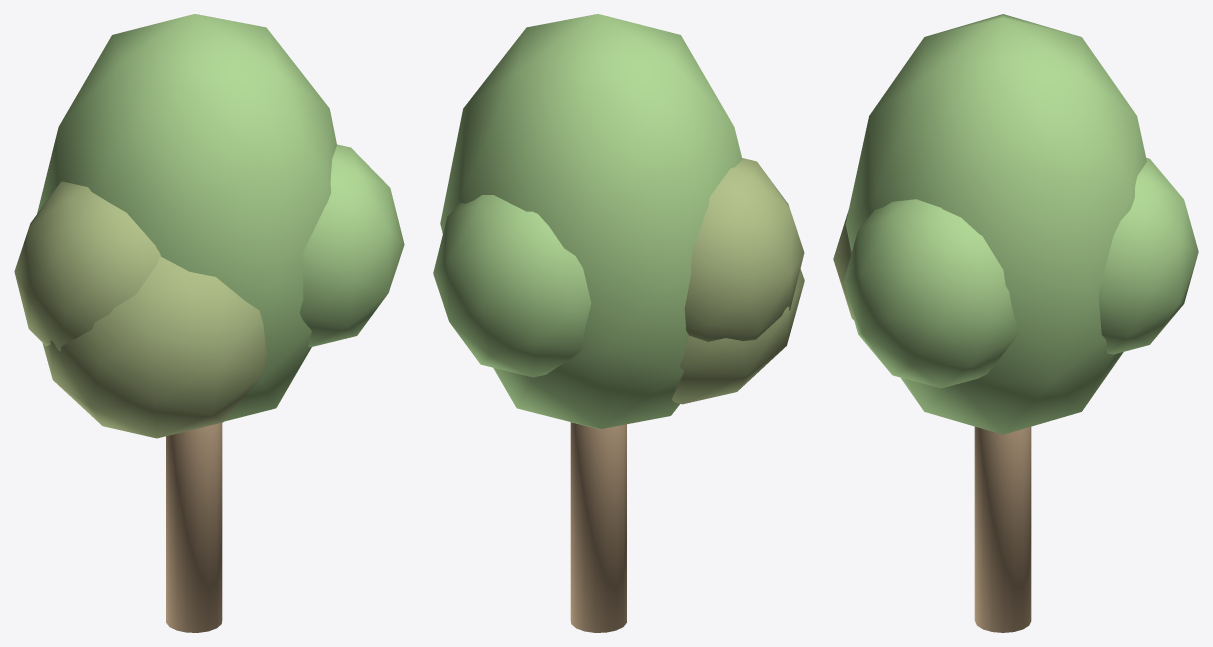
File: tree_standard.glb
3 views of the same model, side by side, from view 1: azimuth 30°, elevation 25°; view 2: azimuth 150°, elevation 25°; view 3: azimuth 270°, elevation 25° (orthographic).
Parts seen in each view (by area): view 1: Canopy_green, Canopy_olive, Trunk_wood; view 2: Canopy_green, Canopy_olive, Trunk_wood; view 3: Canopy_green, Trunk_wood, Canopy_olive.
Boxes of the visible parts, x1,y1,x2,y2 form: Canopy_green: (37, 14, 404, 421); Canopy_olive: (14, 181, 268, 438); Trunk_wood: (166, 422, 222, 632); Canopy_green: (433, 14, 742, 429); Canopy_olive: (671, 158, 804, 404); Trunk_wood: (570, 422, 626, 632); Canopy_green: (843, 14, 1198, 434); Trunk_wood: (974, 426, 1031, 632); Canopy_olive: (833, 210, 853, 319).
Size of the model in its own units: 1.54 by 2.58 by 1.42.
